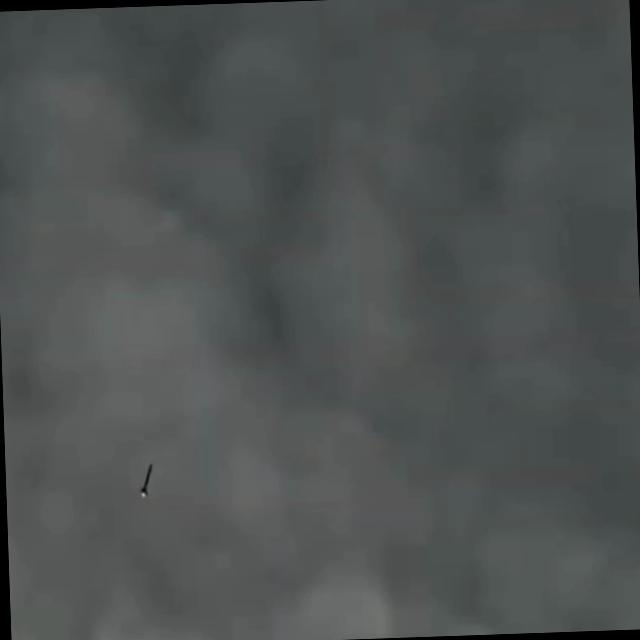rocket: (133, 465, 156, 500)
